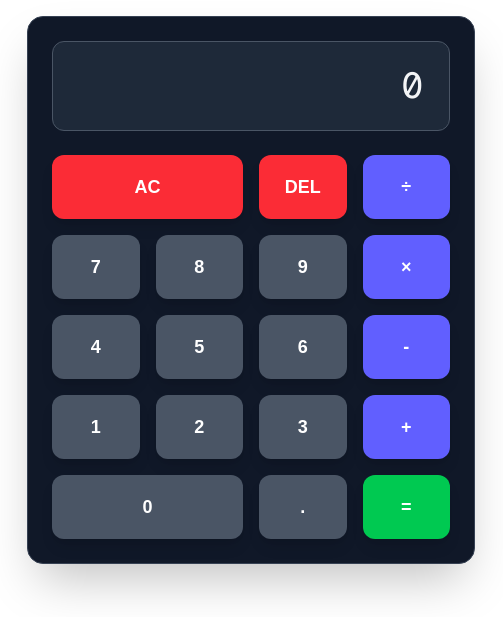
it: Calculator › can input decimal numbers
Click the button "3" at (303, 427), box [259,395,346,459]
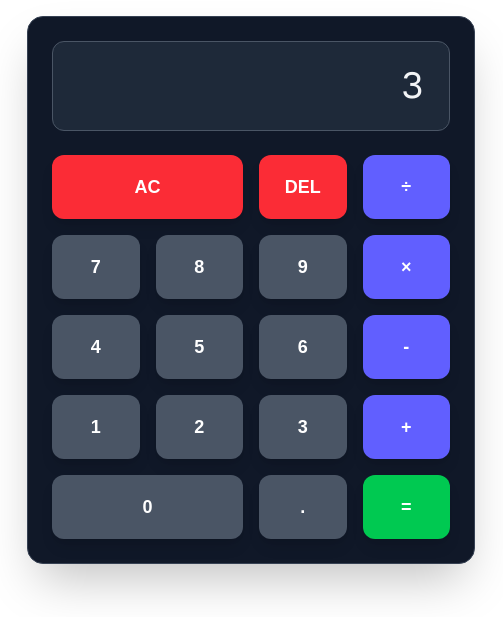
Click the button "." at (303, 507), box [259,475,346,539]
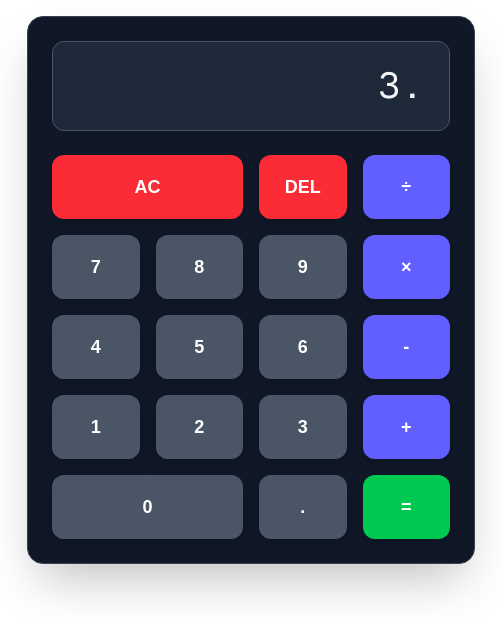
Click the button "1" at (96, 427), box [52,395,140,459]
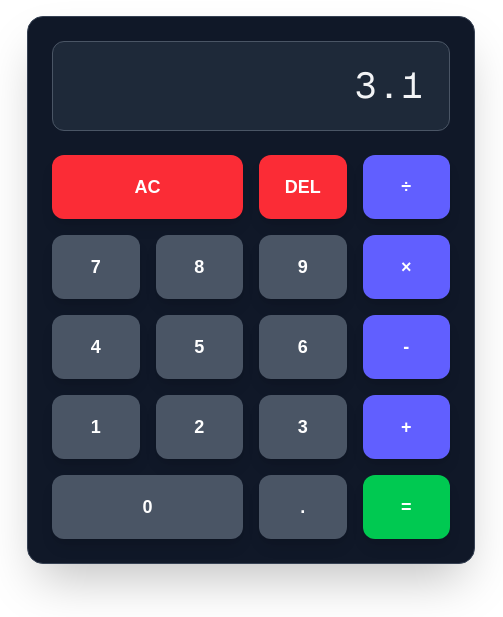
Click the button "4" at (96, 347), box [52,315,140,379]
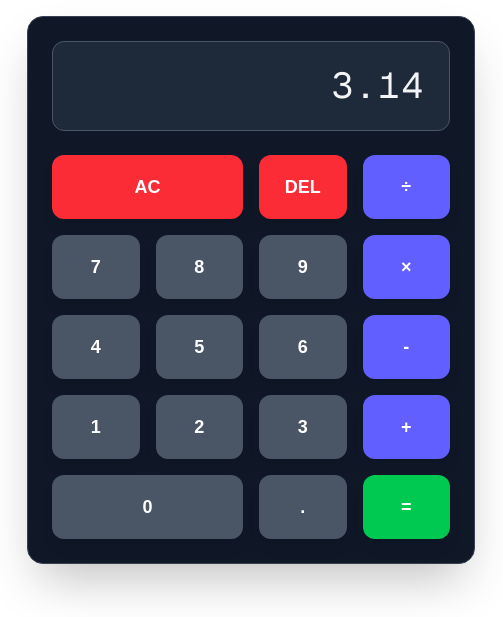
Expected: the text "3.14" is shown, [331,62,425,109]
